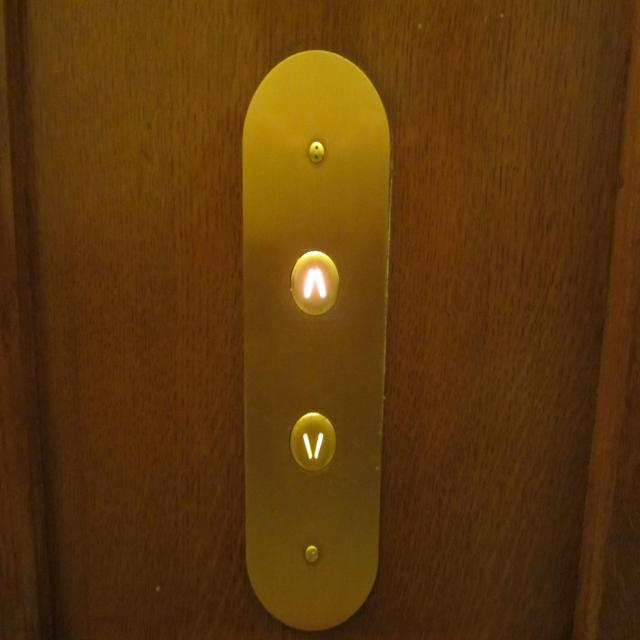down: (284, 408, 341, 480)
up: (288, 244, 342, 320)
